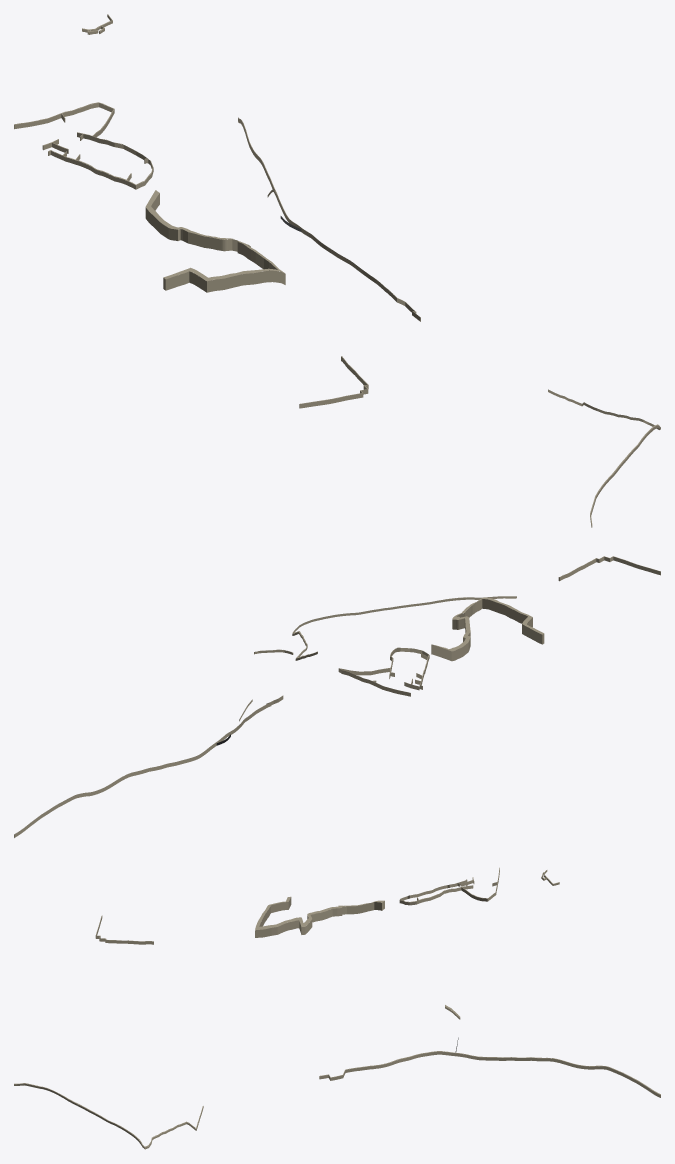
The model's file is walls.glb.
3 views of the same model, one above another, from view 1: azimuth 30°, elevation 25°; view 2: azimuth 150°, elevation 25°; view 3: azimuth 270°, elevation 25° (orthographic). The views are drawn at different scales.
Visible parts, largest first — view 1: T_E1_S3_walls; view 2: T_E1_S3_walls; view 3: T_E1_S3_walls.
Boxes of the visible parts, box(x1,y1,x2,y2) form: T_E1_S3_walls: box(14, 14, 660, 527); T_E1_S3_walls: box(14, 556, 660, 837); T_E1_S3_walls: box(14, 867, 660, 1149).
Size of the model in its own units: 234 by 149 by 481.
